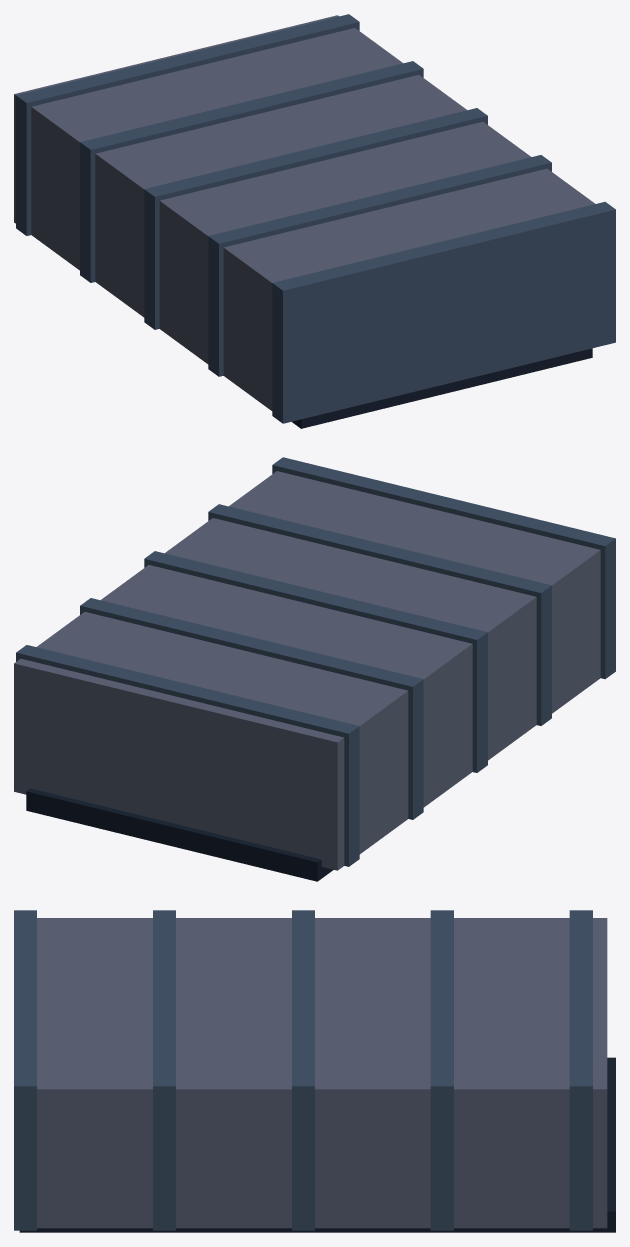
Rendered from env_ceiling_duct.obj.
The picture shows the model from 3 angles, top to bottom: view 1: azimuth 30°, elevation 25°; view 2: azimuth 150°, elevation 25°; view 3: azimuth 270°, elevation 25°; orthographic projection. The views are drawn at different scales.
Bounding box in the file's own units: 1.44 × 0.6 × 2.08.
